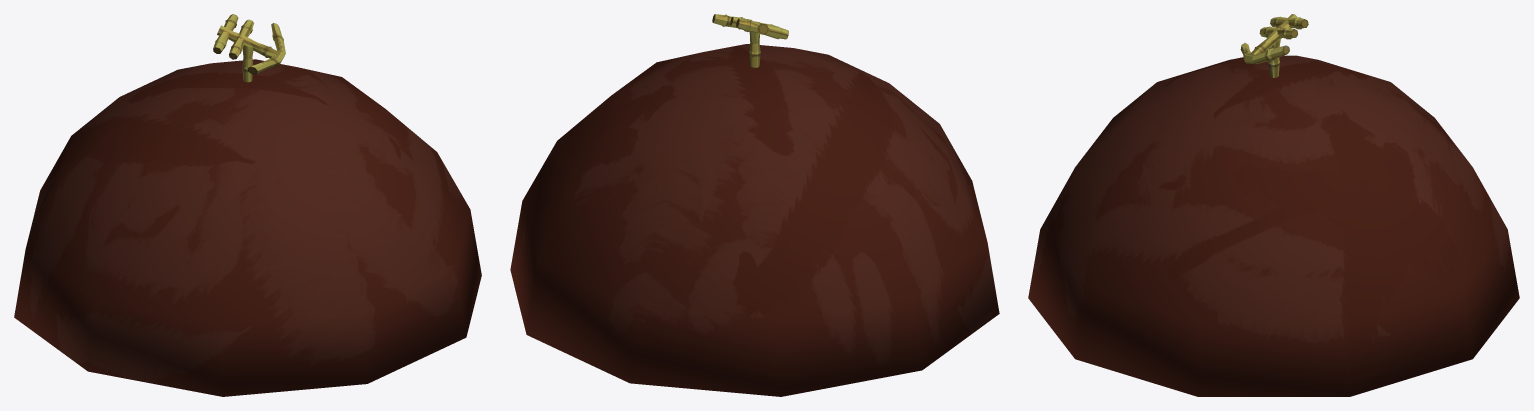
Rendered from rumah_patrick.glb.
3 renders of one model, left to right at view 1: azimuth 30°, elevation 25°; view 2: azimuth 150°, elevation 25°; view 3: azimuth 270°, elevation 25°, orthographic. The views are drawn at different scales.
Parts seen in each view (by area): view 1: blinn1, blinn1.001; view 2: blinn1, blinn1.001; view 3: blinn1, blinn1.001.
Boxes of the visible parts, <box> form: blinn1: <box>14,59,481,396</box>; blinn1.001: <box>213,14,285,82</box>; blinn1: <box>510,44,999,396</box>; blinn1.001: <box>712,14,788,67</box>; blinn1: <box>1028,55,1519,396</box>; blinn1.001: <box>1240,14,1308,77</box>.
Bounding box in the file's own units: 3.7 × 2.44 × 3.89.
Materials: 1 (1 with a texture image).
